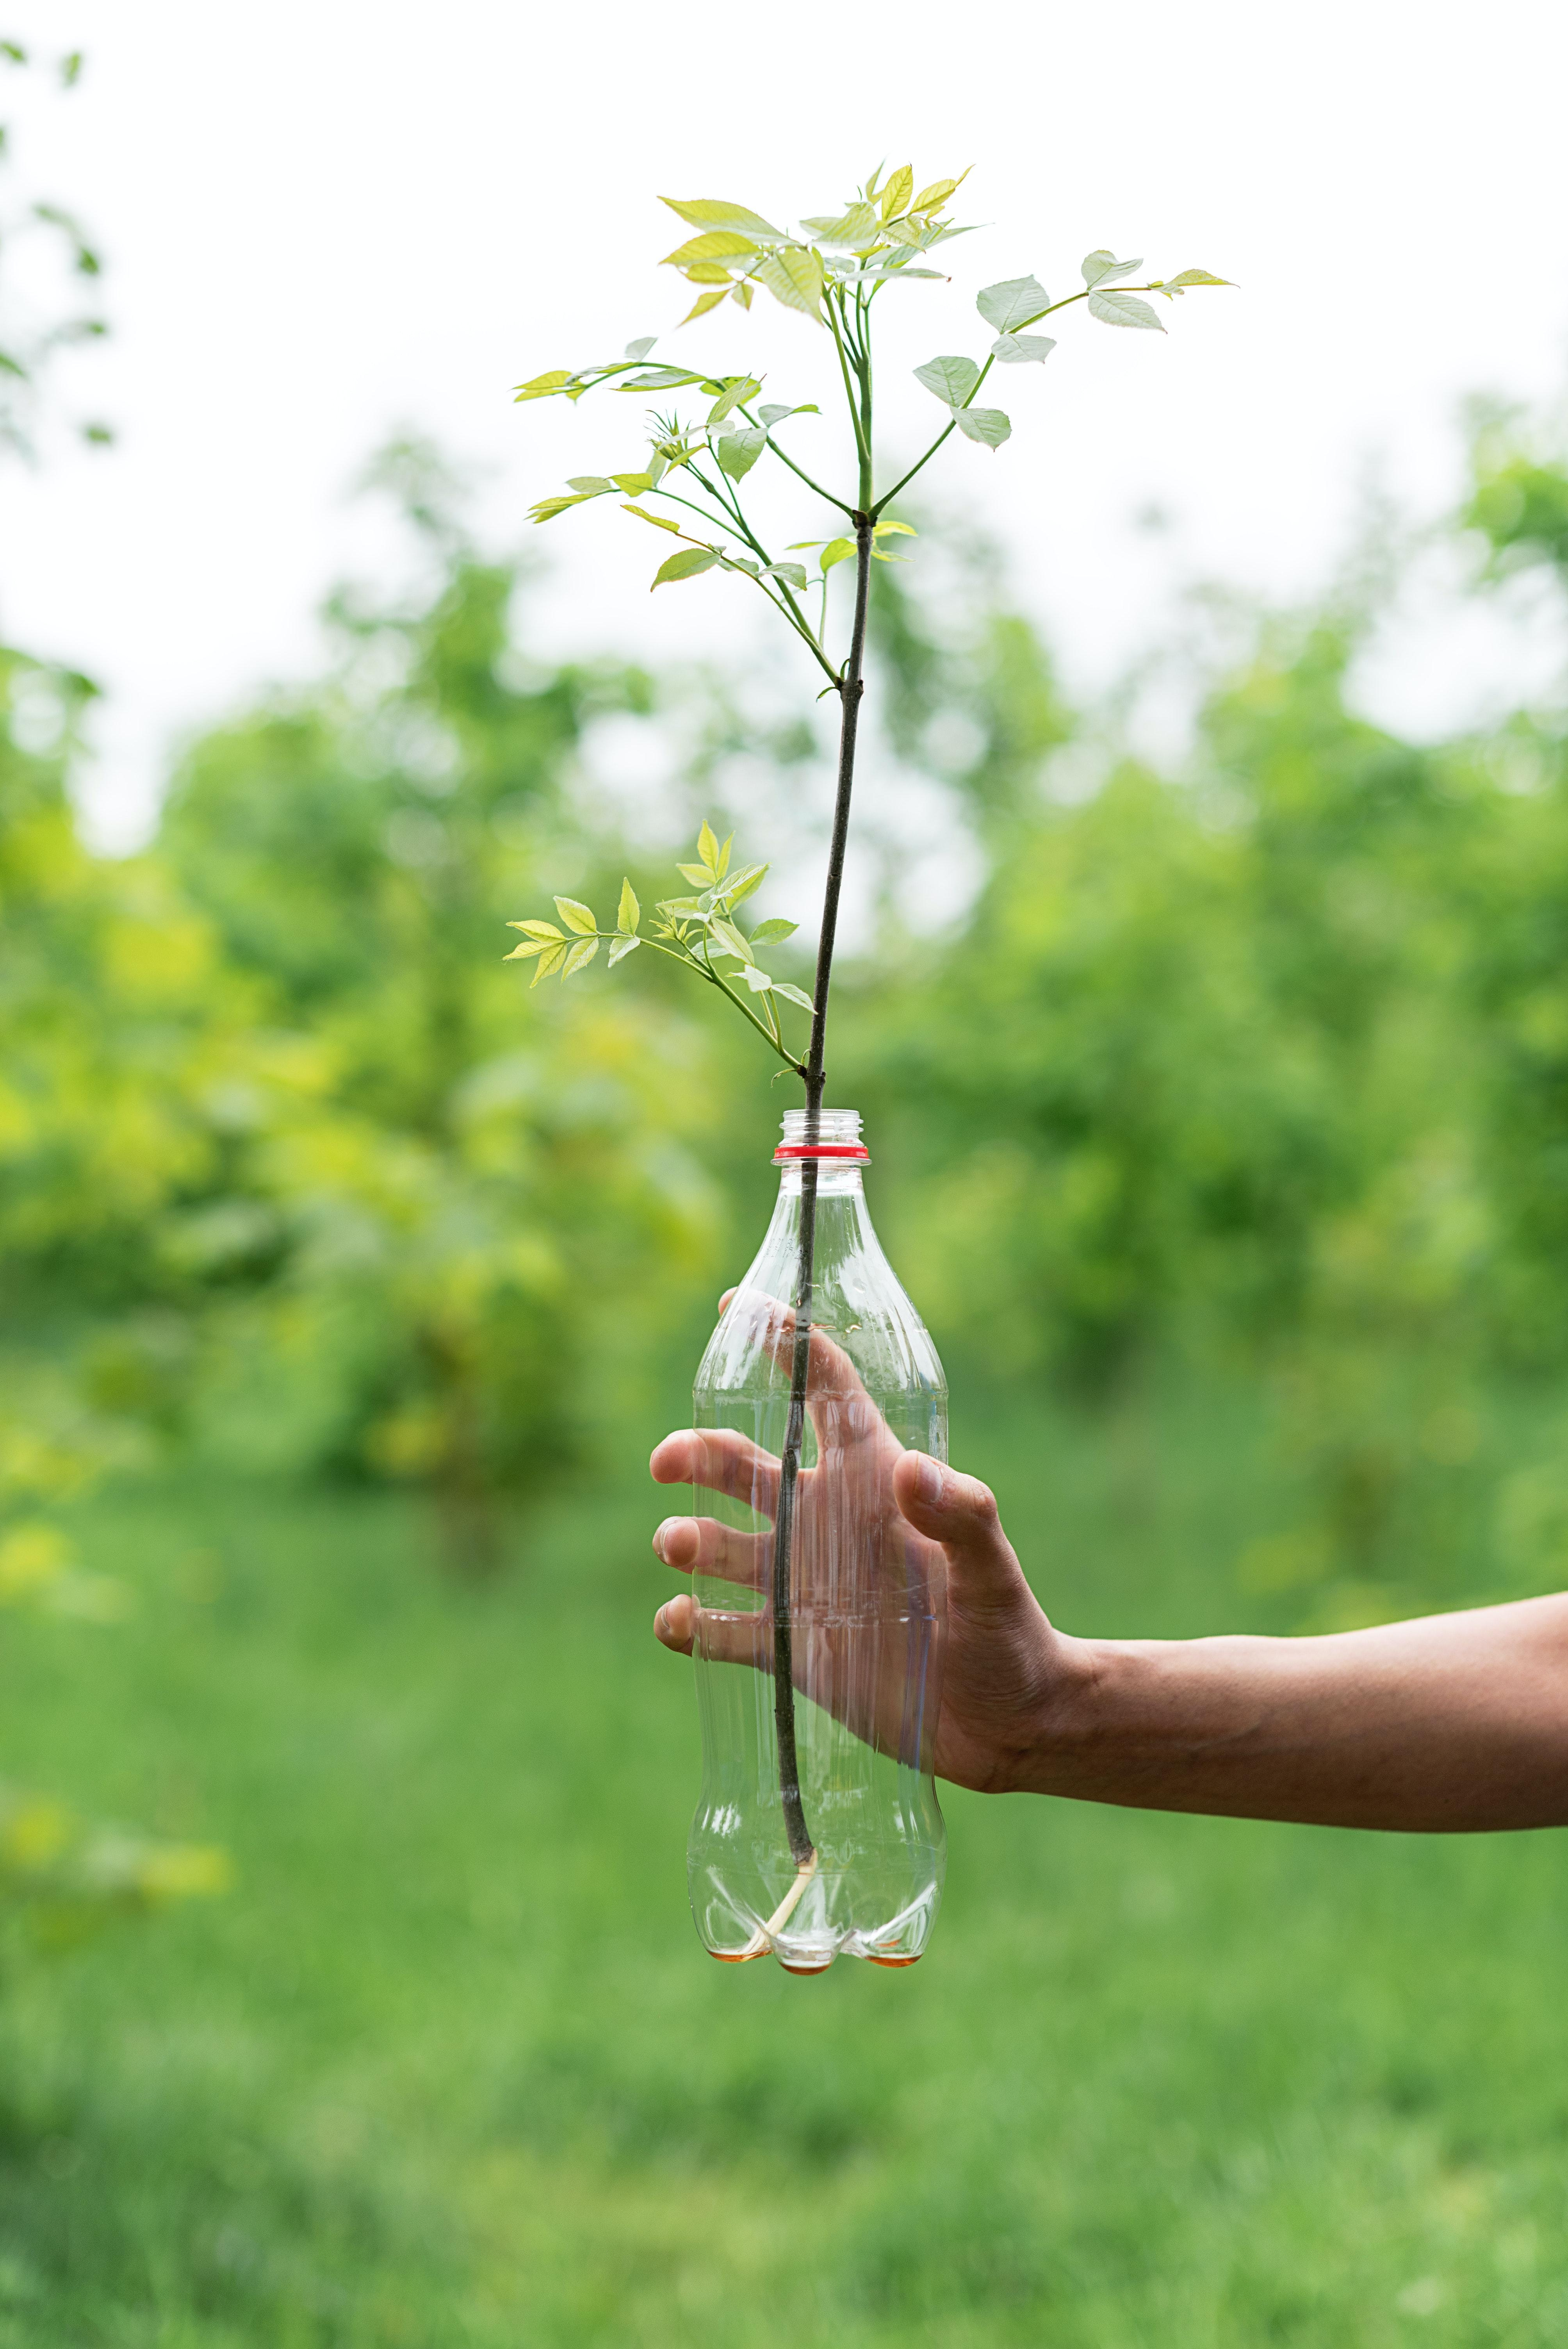bottle: (658, 1089, 961, 1987)
